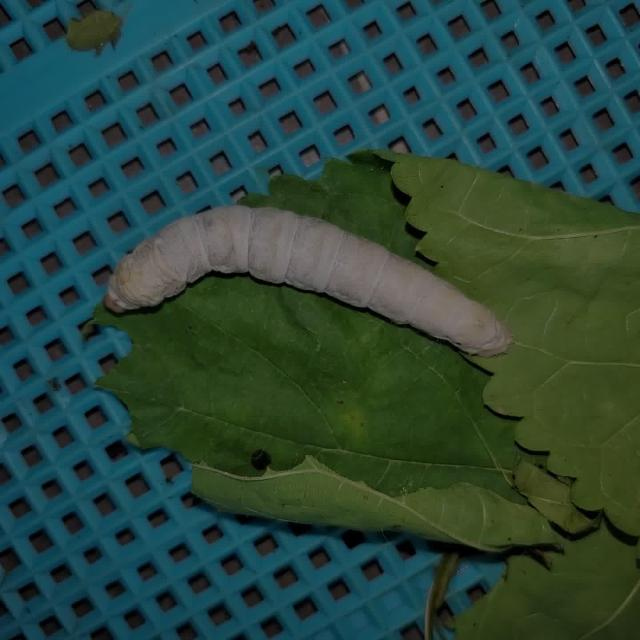Grasserie: (79, 176, 536, 410)
